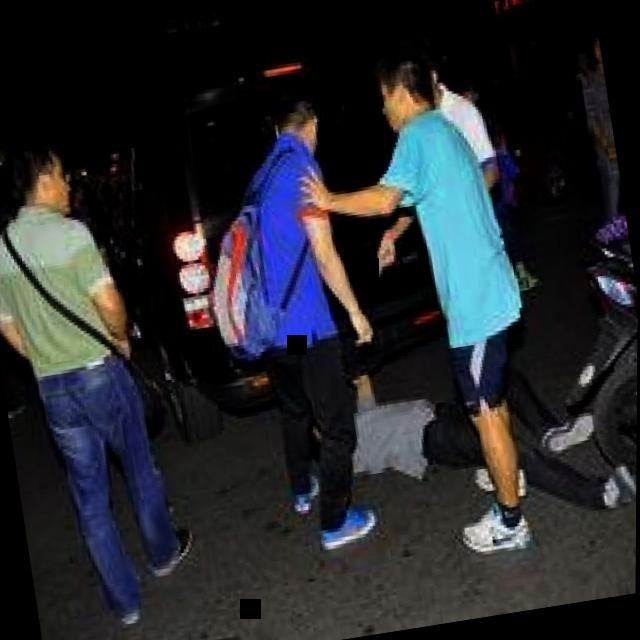Fall-Detected: (284, 314, 638, 539)
